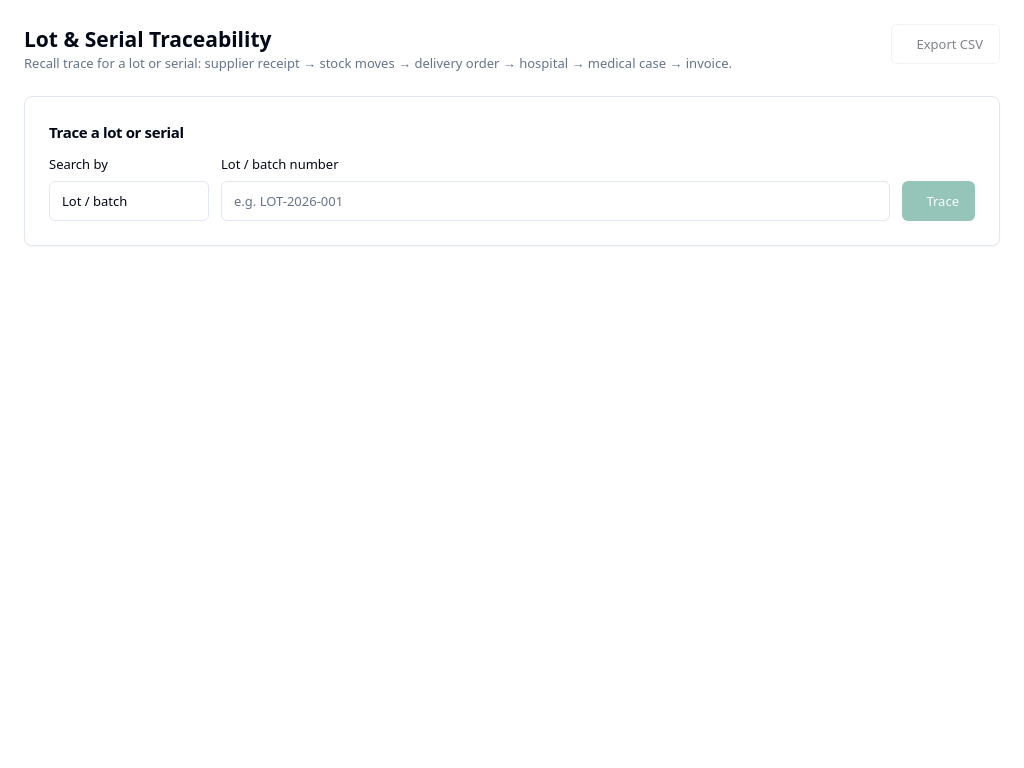
Scenario: LotTraceabilityPage › traces a lot through the report endpoint and renders the ordered timeline
Type "LOT-583-A" into the field labelled "Lot / batch number" at (556, 201), box [221, 181, 890, 221]
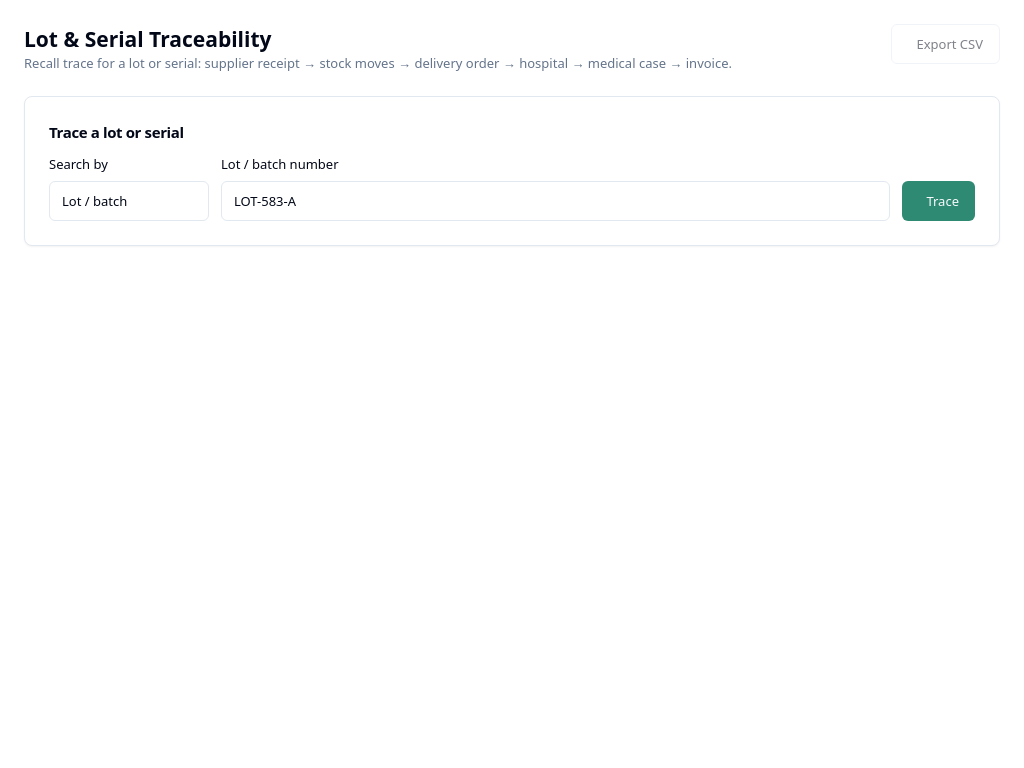
Click the button "Trace" at (939, 201), box [902, 181, 975, 221]
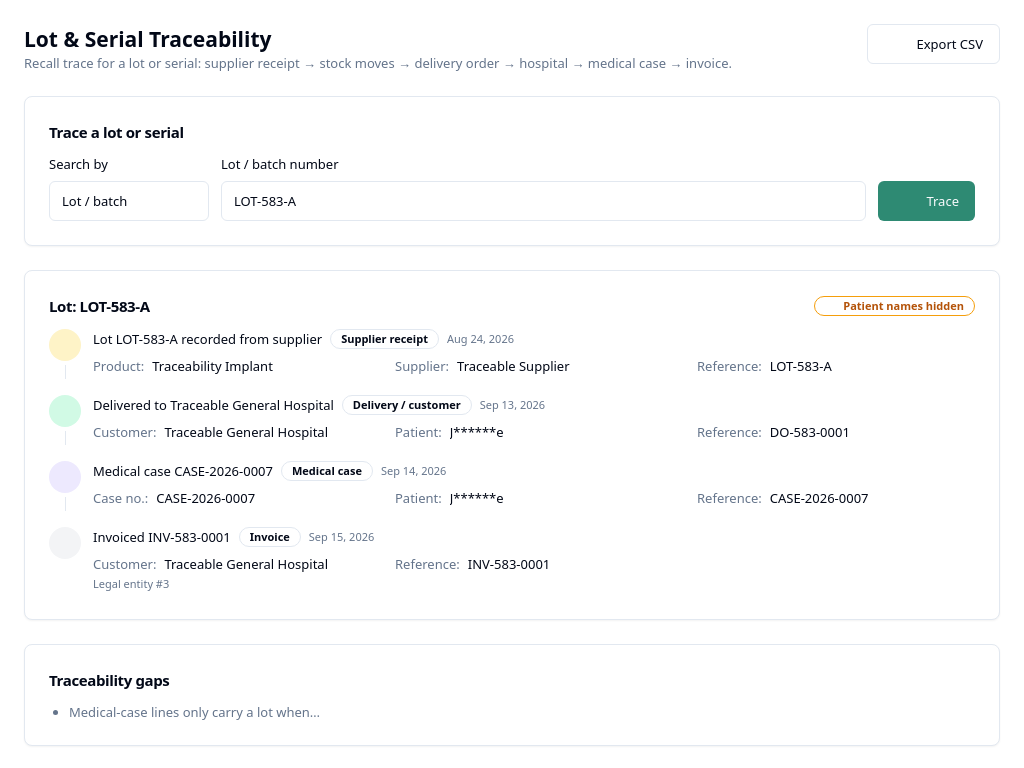
Expected: the text "Lot LOT-583-A recorded from supplier" is shown, [93, 330, 322, 348]
Expected: the text "Delivered to Traceable General Hospital" is shown, [93, 396, 334, 414]
Expected: the text "Medical case CASE-2026-0007" is shown, [93, 462, 273, 480]
